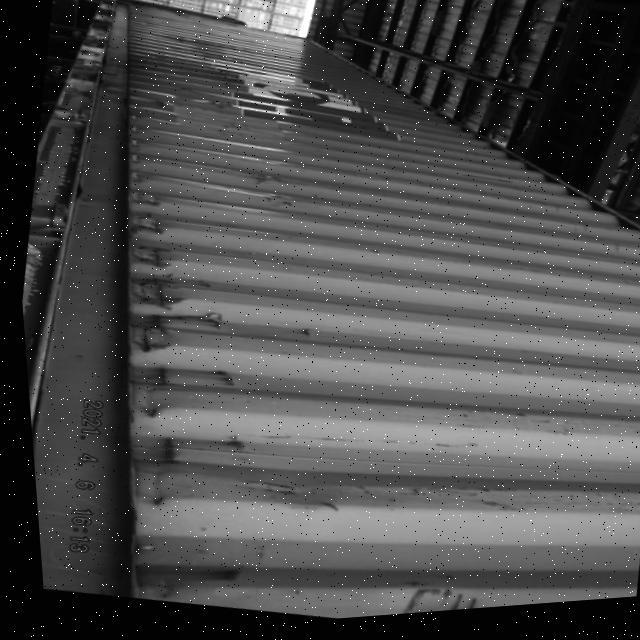rust: (88, 186, 200, 427)
